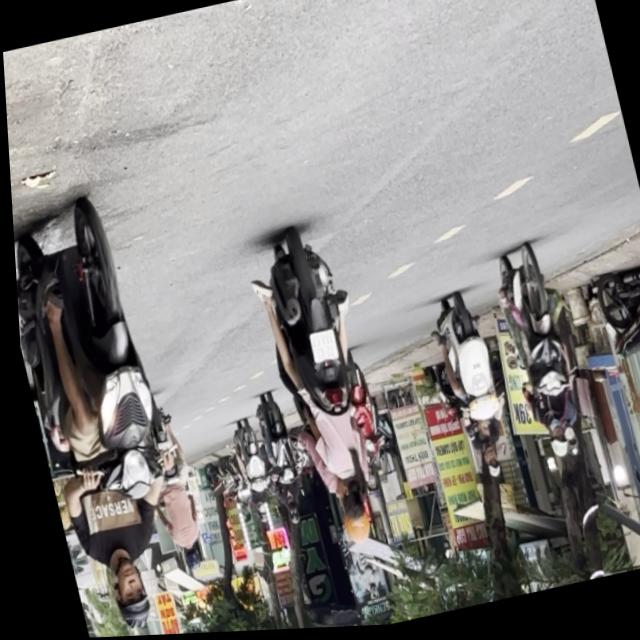helmet: (97, 553, 149, 634), (332, 504, 370, 550), (541, 430, 566, 466)
licenseplate: (9, 187, 206, 640), (239, 221, 401, 560), (482, 242, 592, 473), (420, 288, 517, 490)
motorcyclist: (328, 478, 364, 524), (476, 449, 499, 484), (469, 420, 489, 448)
nohelmet: (305, 334, 337, 369)
